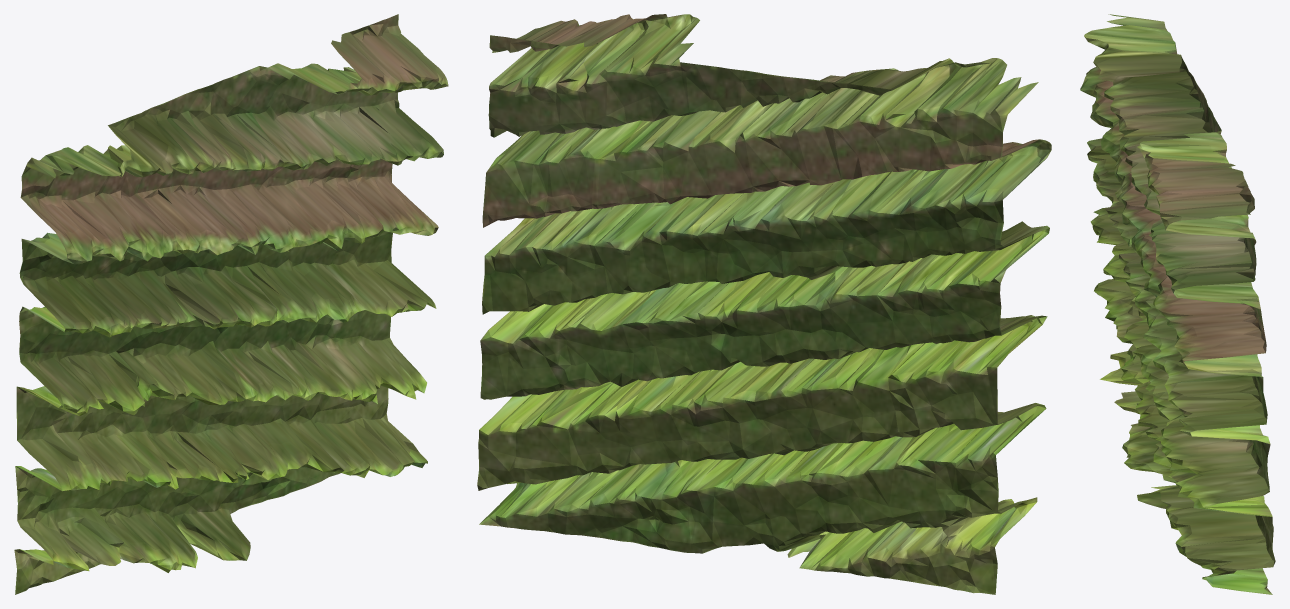
Rendered from map_250_0.obj.
3 views of the same model, side by side, from view 1: azimuth 30°, elevation 25°; view 2: azimuth 150°, elevation 25°; view 3: azimuth 270°, elevation 25° (orthographic). The views are drawn at different scales.
Parts seen in each view (by area): view 1: grp1; view 2: grp1; view 3: grp1.
Part boxes in pixels (x1=…): grp1: x1=14, y1=14, x2=448, y2=594; grp1: x1=477, y1=14, x2=1051, y2=594; grp1: x1=1080, y1=14, x2=1275, y2=594.
Size of the model in its own units: 10 by 10 by 4.47.
Materials: 1 (1 with a texture image).
